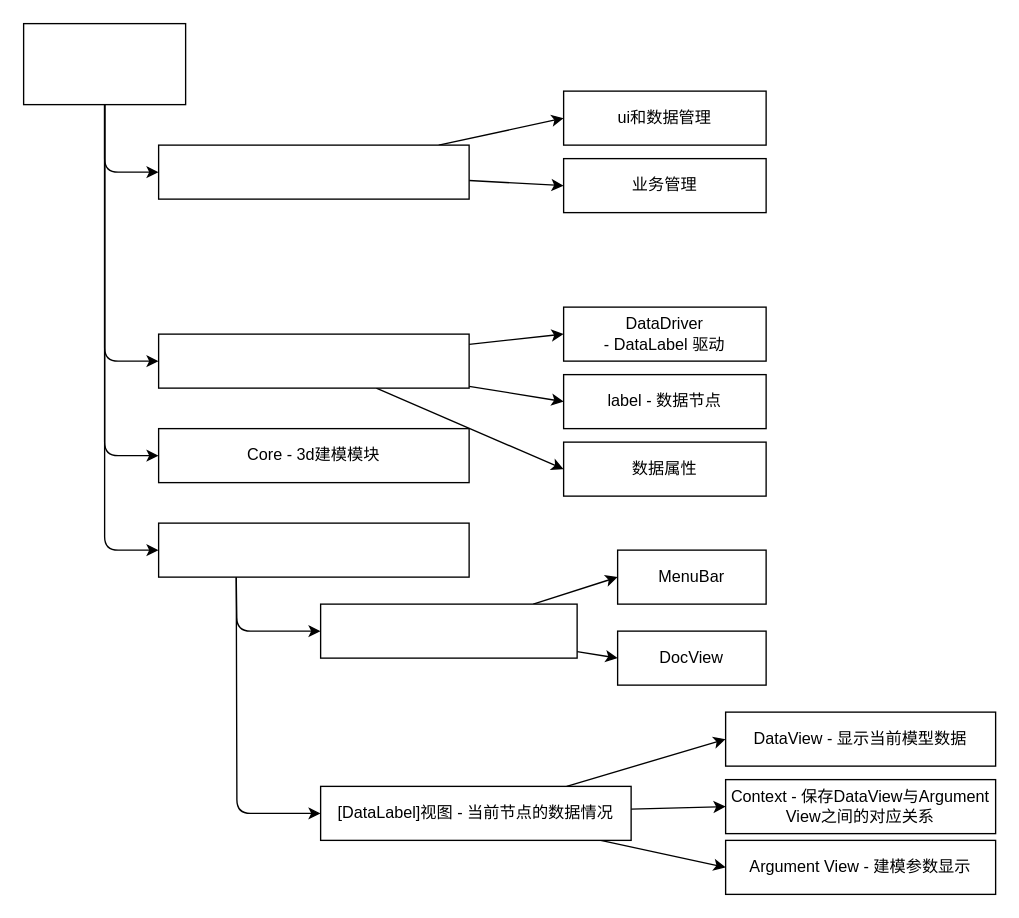
The diagram is 1019 pixels wide and 918 high, and some of its shapes have lost their labels. Each missing label, with the box of its shape:
MainApplication 总控模块: (157, 144, 469, 199)
MainWindow: (319, 603, 577, 658)
RedPanda: (22, 22, 186, 105)
RPAF - dcoument 与其子标签管理: (157, 333, 469, 388)
ui: (157, 522, 469, 577)
